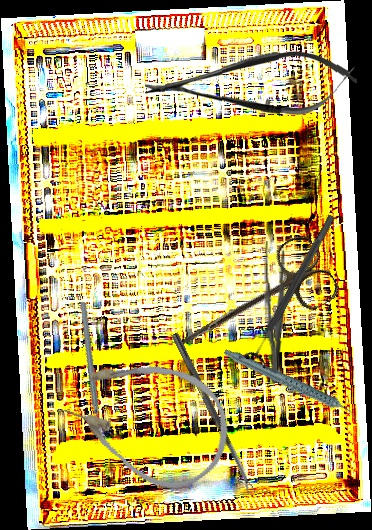Cannula: (49, 332, 247, 506)
Chopper: (46, 301, 142, 439)
Dressing Forceps: (261, 240, 289, 384)
Fixation Ring: (242, 209, 344, 370)
Handpiece: (221, 324, 361, 447)
Iris Scissors: (160, 230, 343, 381)
Micro Scissor: (144, 48, 358, 119)
Surgical Spoon: (170, 332, 256, 496)
